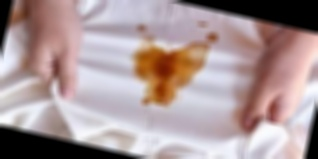coffee: (124, 16, 220, 116)
